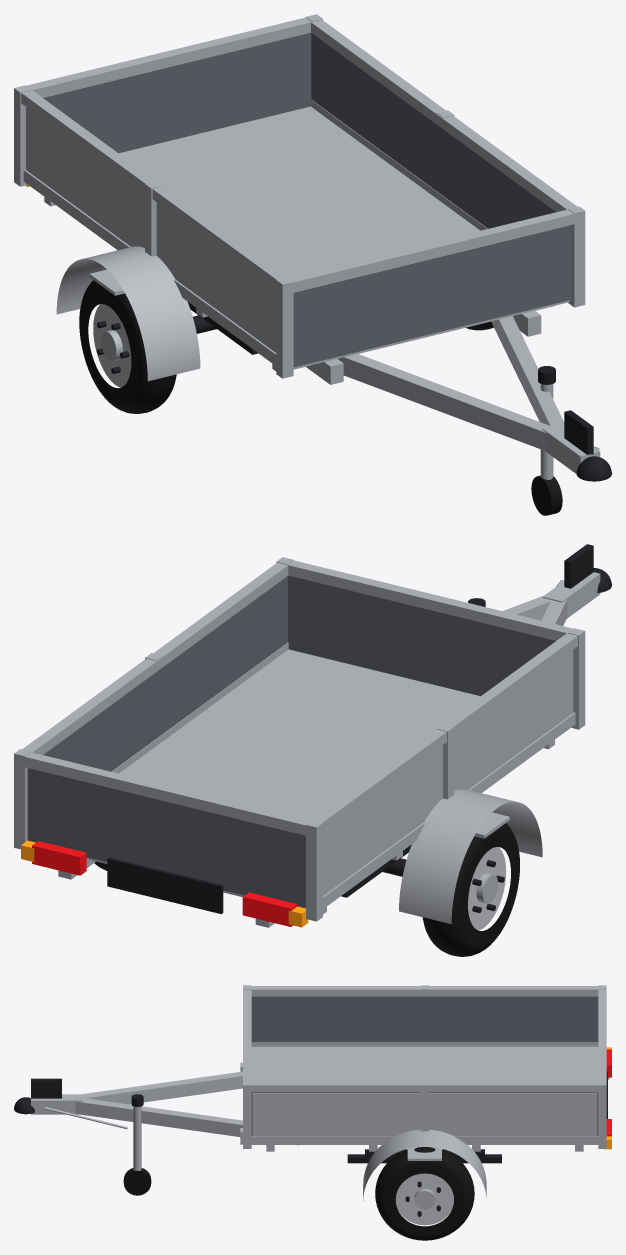
The model's file is trailer2.glb.
The picture shows the model from 3 angles, top to bottom: view 1: azimuth 30°, elevation 25°; view 2: azimuth 150°, elevation 25°; view 3: azimuth 270°, elevation 25°; orthographic projection. The views are drawn at different scales.
Parts seen in each view (by area): view 1: end (×2), floor, sideRib, side, sideTop (×2), endTop (×2), fender, drawbar (×2), post (×4), tire, sideBot (×2), rim (+4 smaller); view 2: end (×2), floor, sideRib, side, sideTop (×2), endTop (×2), fender, post (×4), tire, sideBot (×2), plate, rearLight (×2) (+4 smaller); view 3: side (×2), sideRib, floor, sideTop (×2), drawbar (×2), tire, sideBot (×2), fender, rim, post (×3), endTop (×2), couplerBody (+6 smaller).
Boxes of the visible parts, x1,y1,x2,y2 form: end (×2): (43,32,571,367); floor: (119,106,569,369); sideRib: (26,107,276,352); side: (311,33,555,228); sideTop (×2): (21,19,576,289); endTop (×2): (26,17,581,294); fender: (56,246,200,381); drawbar (×2): (337,316,564,451); post (×4): (14,85,585,378); tire: (79,280,176,413); sideBot (×2): (23,99,487,365); rim: (93,304,131,387); end (×2): (27,575,555,908); floor: (86,649,480,896); sideRib: (323,650,573,895); side: (43,576,287,771); sideTop (×2): (22,561,577,832); endTop (×2): (16,560,573,837); fender: (399,789,542,924); post (×4): (14,628,585,921); tire: (422,823,519,956); sideBot (×2): (111,642,575,908); plate: (107,857,223,914); rearLight (×2): (32,841,297,926); side (×2): (251,996,598,1136); sideRib: (252,1093,597,1136); floor: (251,1046,598,1081); sideTop (×2): (246,986,603,1092); drawbar (×2): (75,1071,298,1145); tire: (375,1147,474,1240); sideBot (×2): (251,1042,598,1144); fender: (363,1129,486,1201); rim: (395,1173,453,1225); post (×3): (243,1081,606,1148); endTop (×2): (243,989,606,1081); couplerBody: (31,1094,82,1114).
Bounding box in the file's own units: 1.8 × 0.945 × 3.49.
